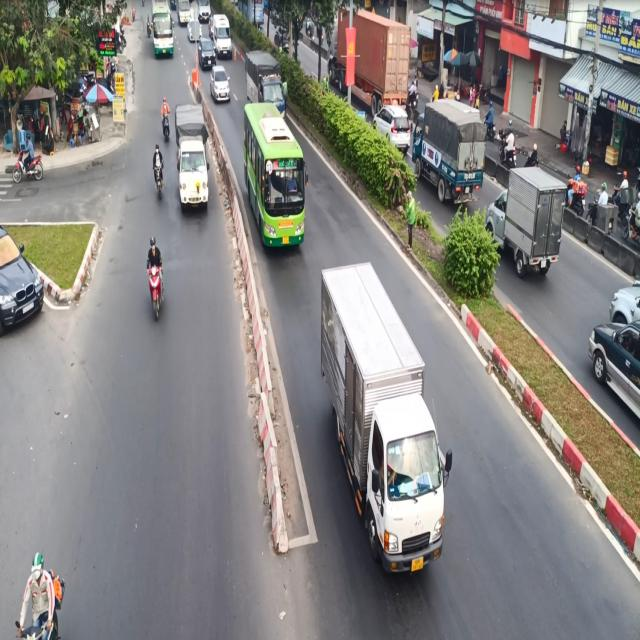car: (210, 61, 230, 108), (212, 14, 234, 53), (199, 34, 215, 67)
motorbike: (141, 233, 169, 320), (148, 140, 166, 196), (156, 99, 170, 140)
truck: (316, 266, 447, 586), (174, 104, 214, 211)
